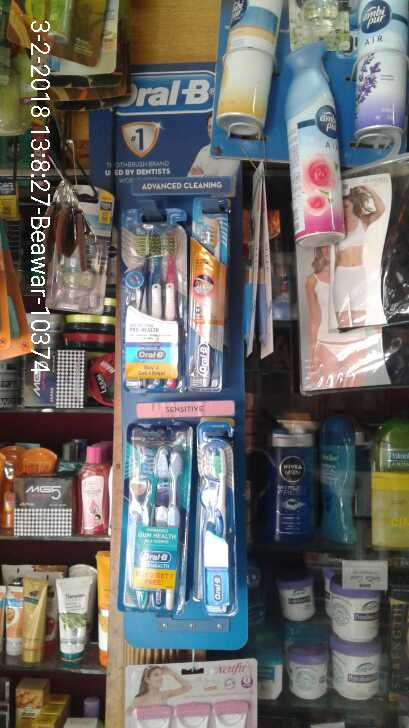home: (275, 35, 348, 254)
pharmacy: (119, 421, 191, 612), (126, 208, 184, 393), (196, 428, 239, 614), (188, 198, 218, 389)
